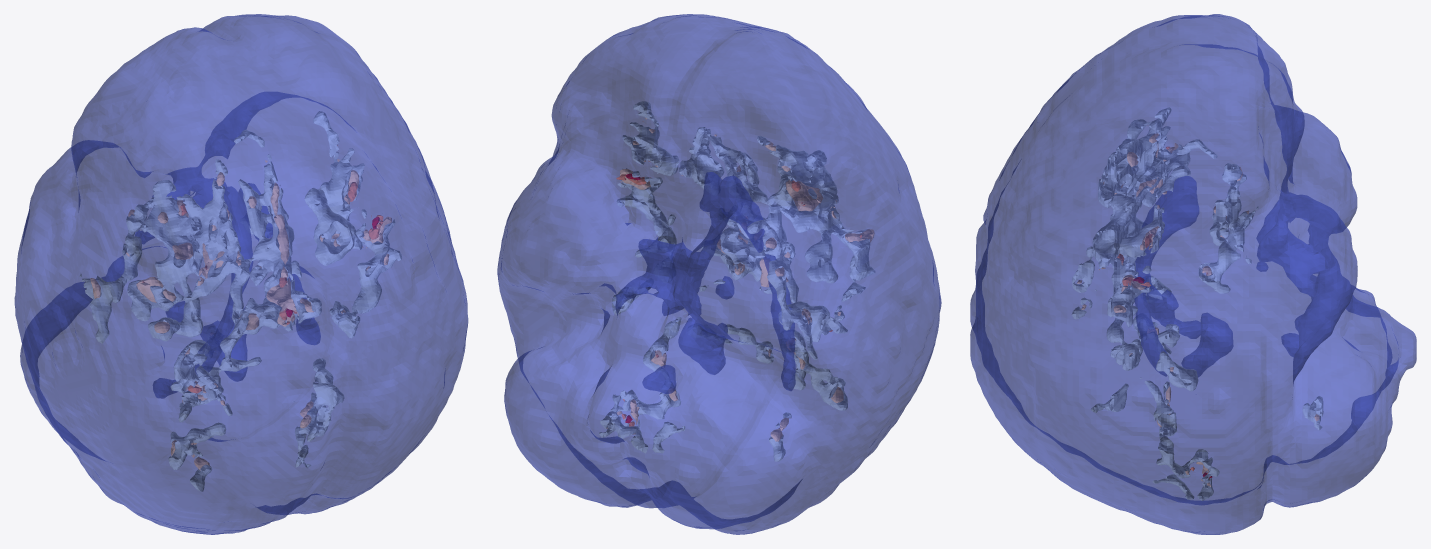
File: smalltest.gltf
3 views of the same model, side by side, from view 1: azimuth 30°, elevation 25°; view 2: azimuth 150°, elevation 25°; view 3: azimuth 270°, elevation 25° (orthographic). The views are drawn at different scales.
Parts seen in each view (by area): view 1: Renderer Node; view 2: Renderer Node; view 3: Renderer Node.
Part boxes in pixels (left/top/right/bottom): Renderer Node: left=14, top=14, right=468, bottom=534; Renderer Node: left=497, top=14, right=941, bottom=534; Renderer Node: left=970, top=14, right=1416, bottom=534.
Size of the model in its own units: 7.18 by 9 by 7.61.
2 materials, 2 textured.
